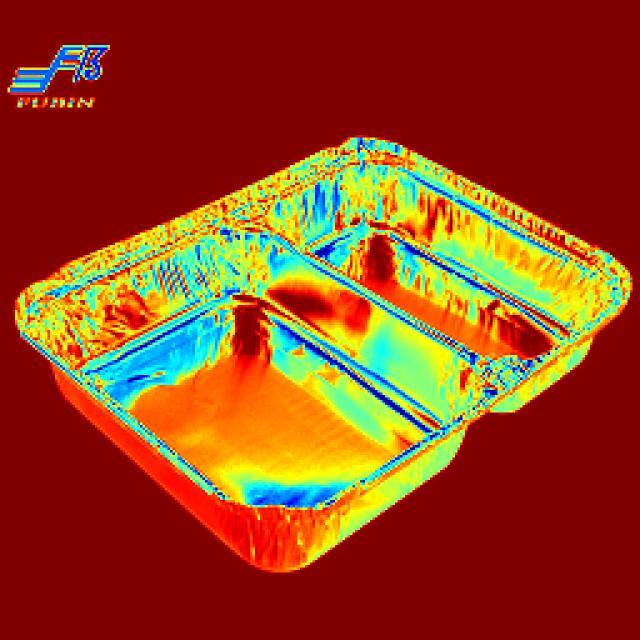Aluminium Food Cans: (19, 140, 608, 575)
